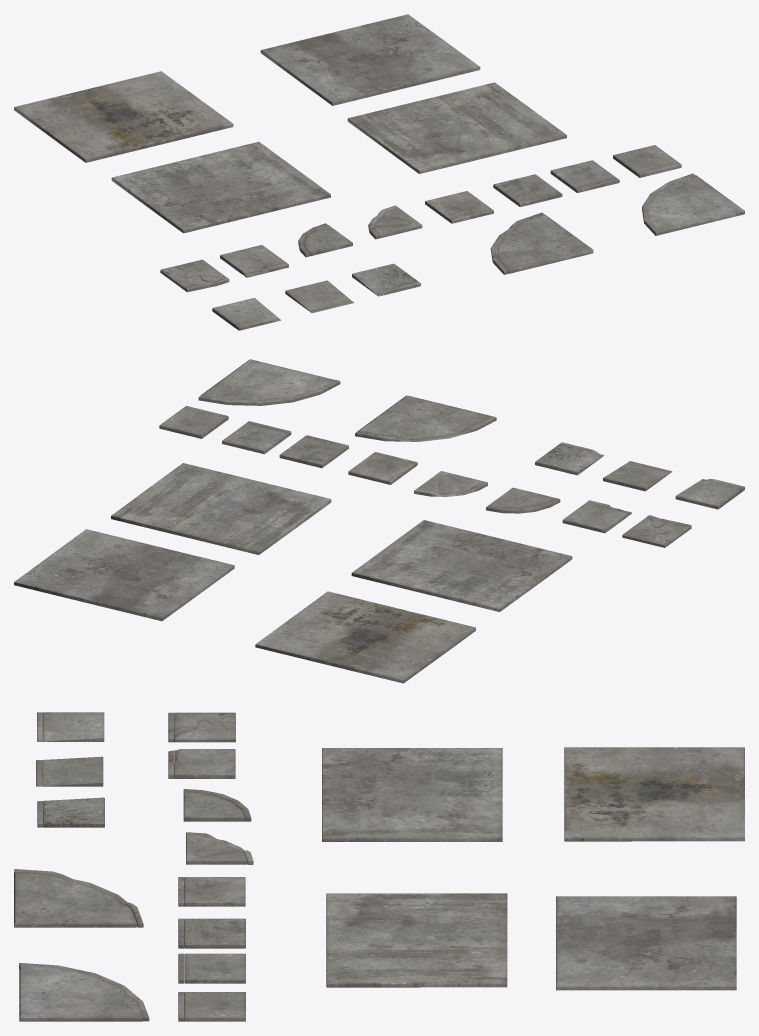
The picture shows the model from 3 angles, top to bottom: view 1: azimuth 30°, elevation 25°; view 2: azimuth 150°, elevation 25°; view 3: azimuth 270°, elevation 25°; orthographic projection. The views are drawn at different scales.
Parts seen in each view (by area): view 1: Sidewwalk_Long2, Sidewwalk_Long, Sidewwalk_Long1, Sidewwalk_Long3, SidewalkCornerLarge, SidewalkCornerLargeWalk, DrivewayMid1, SidewalkCracked, SidewalkDrivewayRight, SidewalkBroken, Sidewalk3, Sidewalk2 (+5 smaller); view 2: Sidewwalk_Long, Sidewwalk_Long1, Sidewwalk_Long3, Sidewwalk_Long2, SidewalkCornerLargeWalk, SidewalkCornerLarge, Sidewalk2, Sidewalk4, Sidewalk1, Sidewalk3, SidewalkDrivewayRight, SidewalkCracked (+7 smaller); view 3: Sidewwalk_Long, Sidewwalk_Long2, Sidewwalk_Long3, Sidewwalk_Long1, SidewalkCornerLarge, SidewalkCornerLargeWalk, Sidewalk2, SidewalkBroken, Sidewalk3, Sidewalk1, Sidewalk4, SidewalkDrivewayLeft (+7 smaller).
Boxes of the visible parts, x1,y1,x2,y2 form: Sidewwalk_Long2: (260,14,480,105); Sidewwalk_Long: (347,82,566,173); Sidewwalk_Long1: (111,141,330,233); Sidewwalk_Long3: (14,71,233,162); SidewalkCornerLarge: (647,175,744,234); SidewalkCornerLargeWalk: (496,214,593,273); DrivewayMid1: (285,280,351,311); SidewalkCracked: (220,245,286,275); SidewalkDrivewayRight: (352,263,417,294); SidewalkBroken: (160,259,226,290); Sidewalk3: (550,160,616,191); Sidewalk2: (493,174,559,204); Sidewwalk_Long: (111,463,331,554); Sidewwalk_Long1: (351,520,572,611); Sidewwalk_Long3: (255,591,475,683); Sidewwalk_Long2: (14,529,234,621); SidewalkCornerLargeWalk: (357,395,491,439); SidewalkCornerLarge: (201,359,335,400); Sidewalk2: (279,437,346,468); Sidewalk4: (159,407,226,438); Sidewalk1: (348,453,415,484); Sidewalk3: (222,423,288,454); SidewalkDrivewayRight: (535,444,601,475); SidewalkCracked: (562,502,628,533); Sidewwalk_Long: (326,893,507,987); Sidewwalk_Long2: (556,896,736,990); Sidewwalk_Long3: (564,747,744,841); Sidewwalk_Long1: (322,748,502,841); SidewalkCornerLarge: (19,965,143,1021); SidewalkCornerLargeWalk: (14,872,136,927); Sidewalk2: (184,918,245,948); SidewalkBroken: (174,712,235,742); Sidewalk3: (184,953,245,983); Sidewalk1: (184,877,245,906); Sidewalk4: (184,992,245,1021); SidewalkDrivewayLeft: (43,712,104,741).
Bounding box in the file's own units: 23.62 × 0.2148 × 23.88.
Materials: 1 (1 with a texture image).
